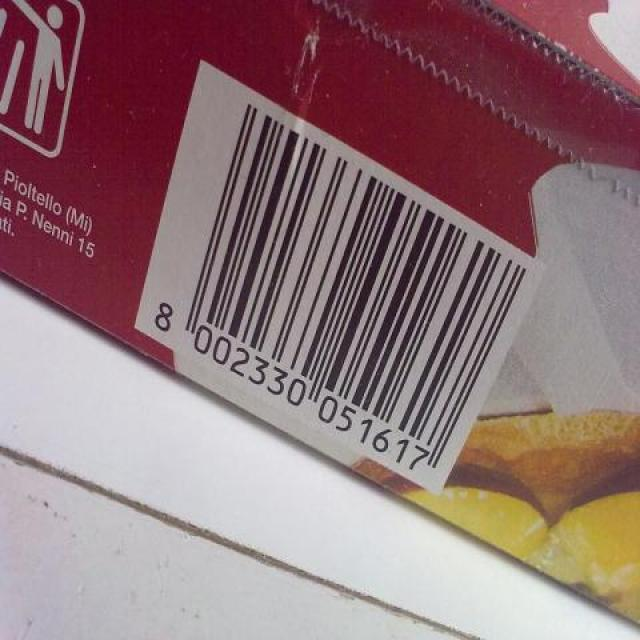Barcode: (129, 55, 551, 497)
